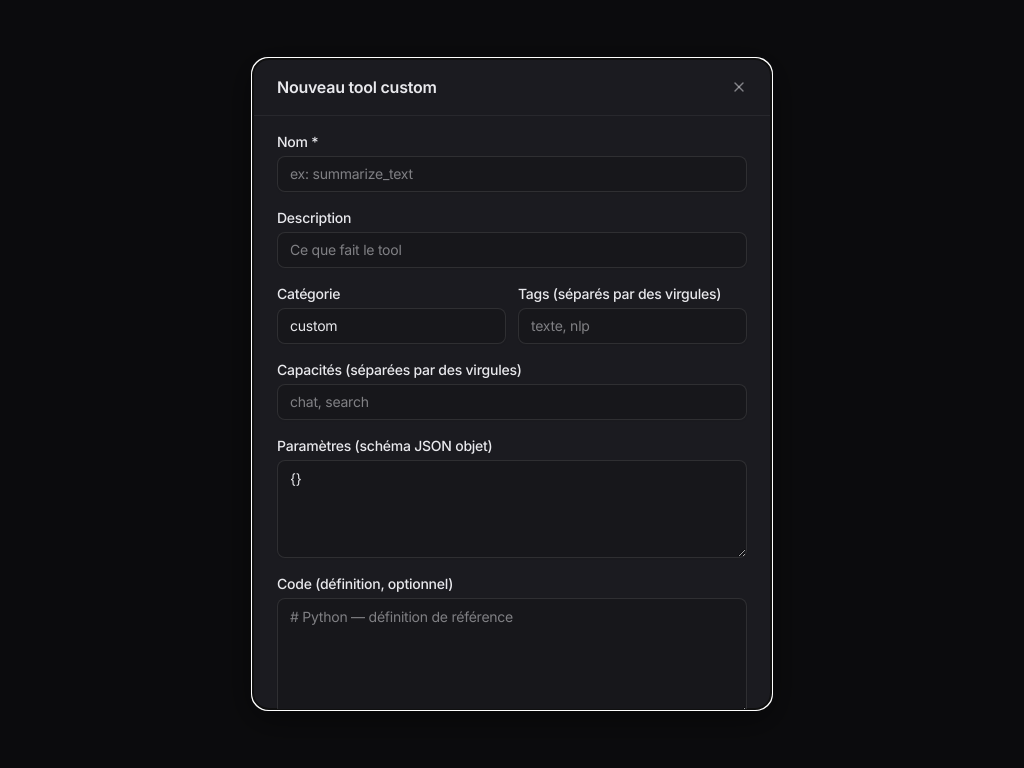
ToolDialog — création de tool custom › active Créer avec un nom valide (JSON par défaut : {})
This screenshot has width=1024, height=768.
Type "mon_tool" into the field with placeholder "ex: summarize_text".
click(512, 174); type("mon_tool")  # box x1=277 y1=156 x2=747 y2=192
(page scrolled)
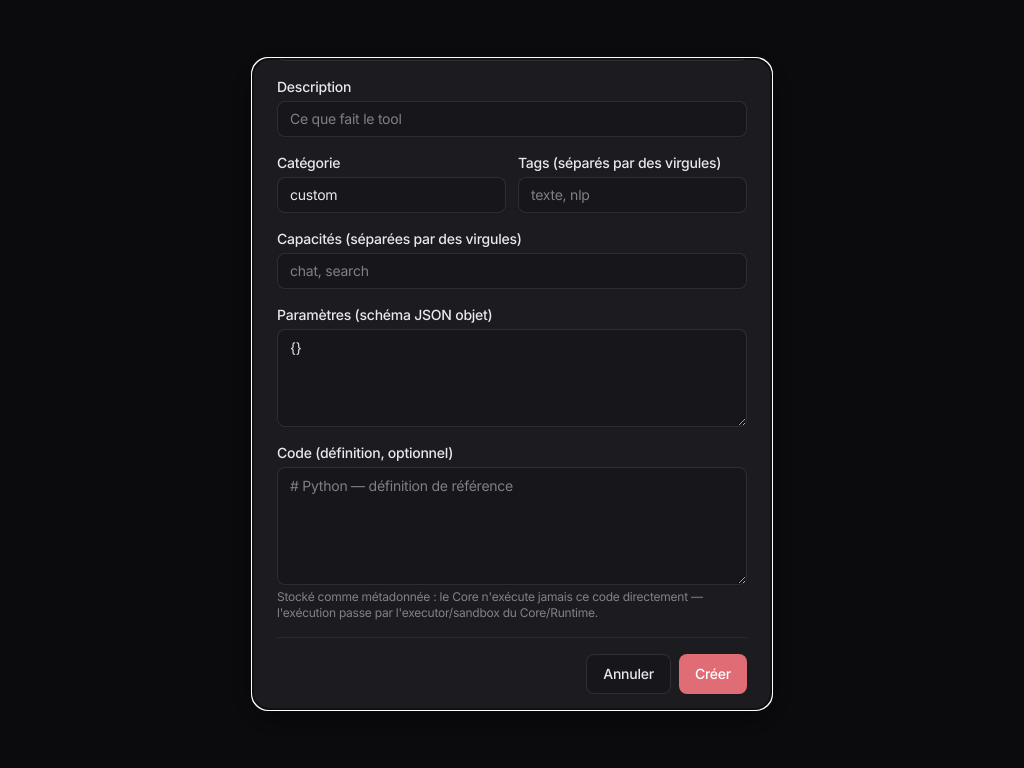
Result: the button "Créer" is enabled at x1=679 y1=654 x2=747 y2=694
